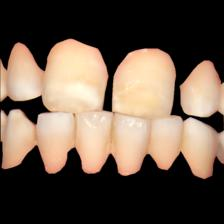cavity: (108, 127, 118, 152), (32, 126, 43, 145), (144, 135, 153, 157), (6, 153, 18, 168), (45, 161, 62, 170), (70, 132, 80, 147), (87, 163, 104, 171), (179, 137, 185, 152)
tooth: (43, 38, 110, 112), (113, 46, 176, 114), (181, 56, 222, 118), (112, 114, 150, 178), (38, 112, 76, 173), (77, 111, 111, 175), (184, 119, 219, 180), (4, 105, 36, 169), (7, 43, 41, 100), (150, 117, 184, 172)
